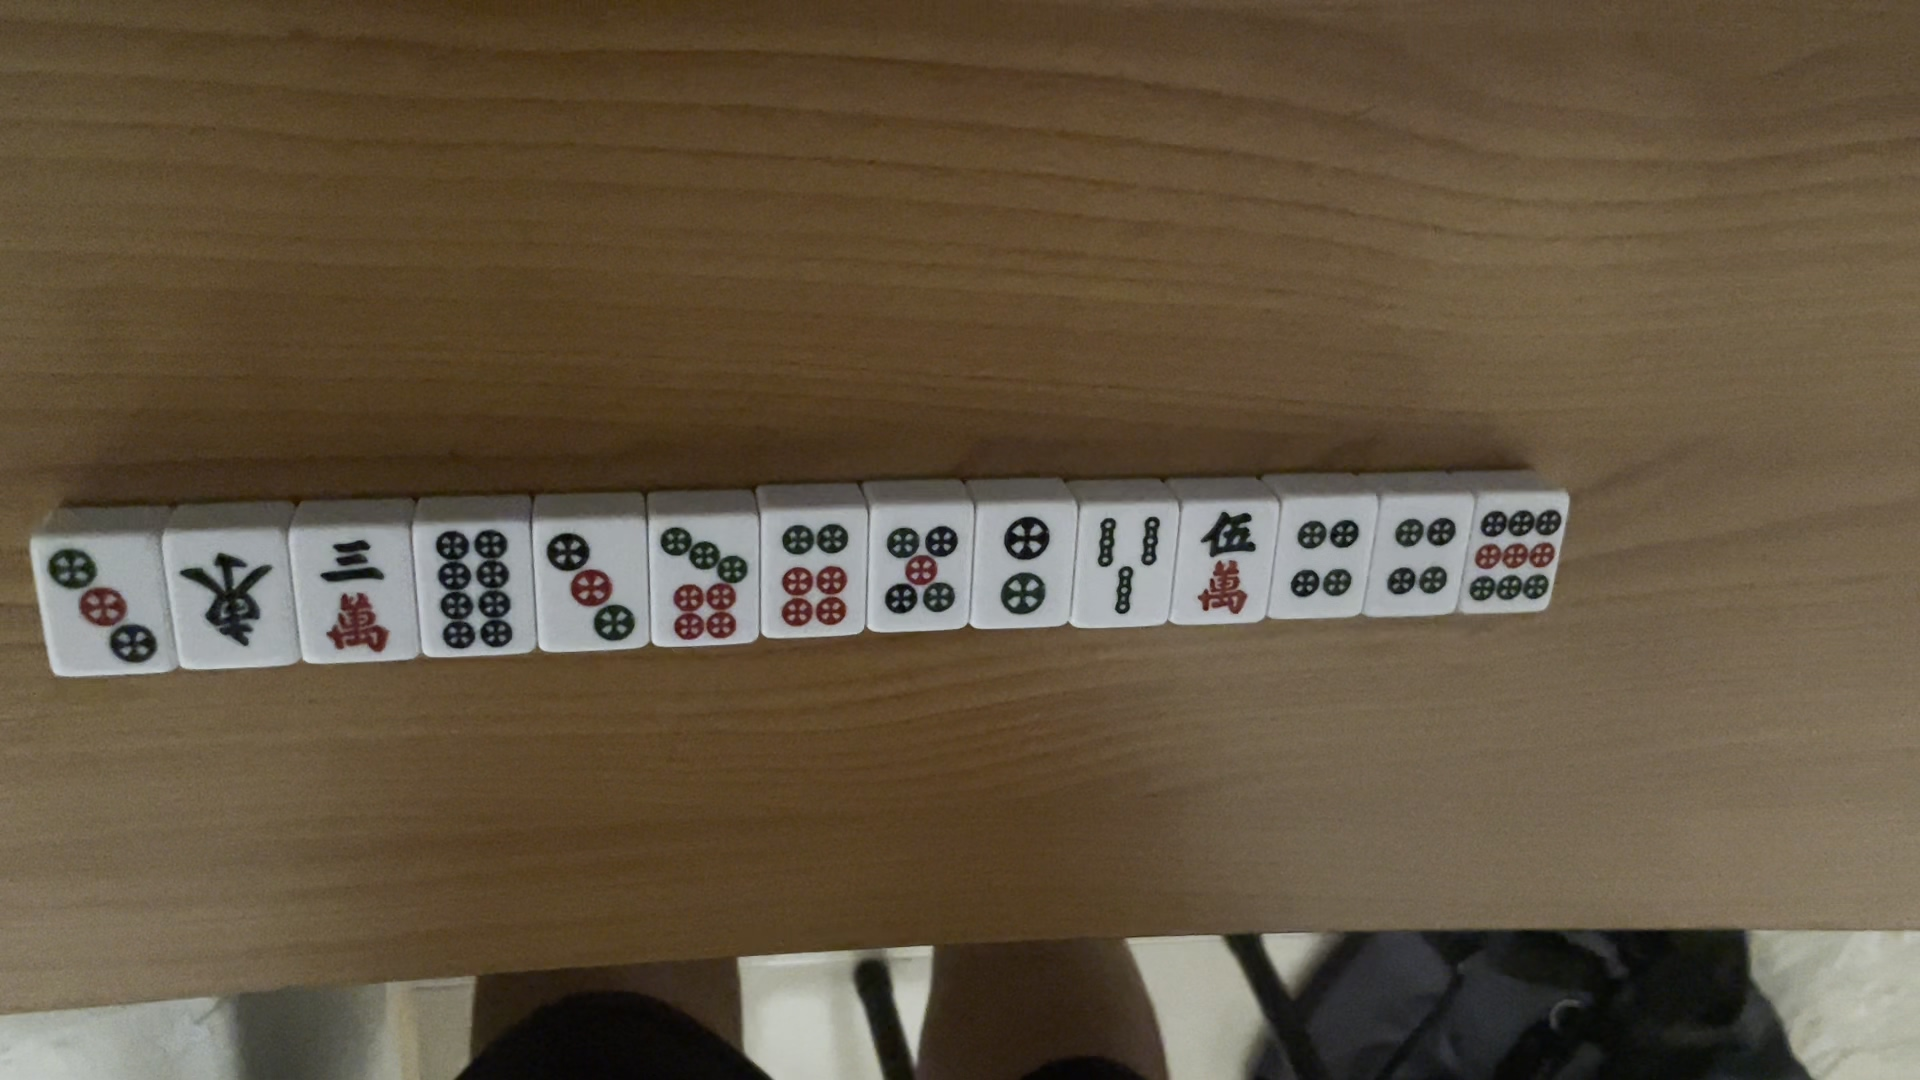b-3: (1087, 512, 1168, 624)
c-3: (313, 533, 400, 659)
c-5: (1189, 508, 1261, 615)
d-2: (990, 514, 1051, 620)
d-3: (41, 541, 164, 666), (545, 527, 638, 641)
d-4: (1381, 512, 1458, 603), (1287, 512, 1362, 604)
d-5: (877, 520, 961, 617)
d-6: (775, 518, 857, 630)
d-7: (657, 525, 752, 640)
d-8: (423, 527, 525, 655)
d-9: (1466, 502, 1564, 607)
honors-east: (178, 546, 280, 653)
